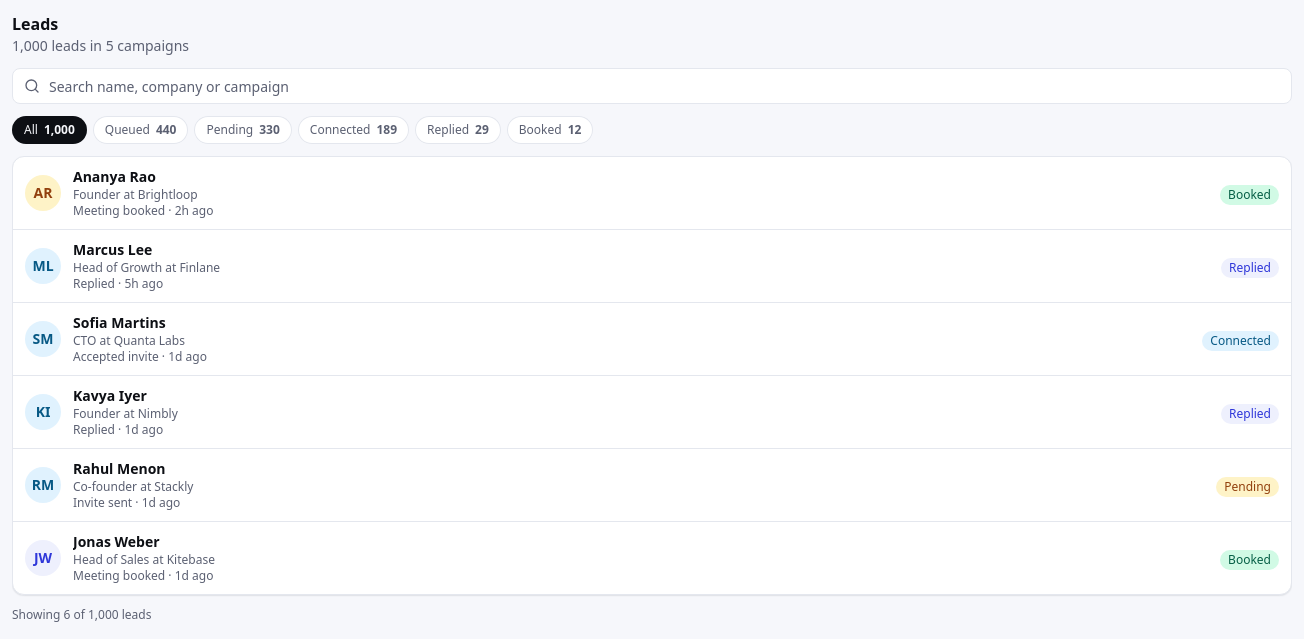
Test: LeadsPanel › shows an empty state for a search with no match, and recovers
In the search field named "Search leads": (652, 86) [12,68,1292,104], type "zzz"
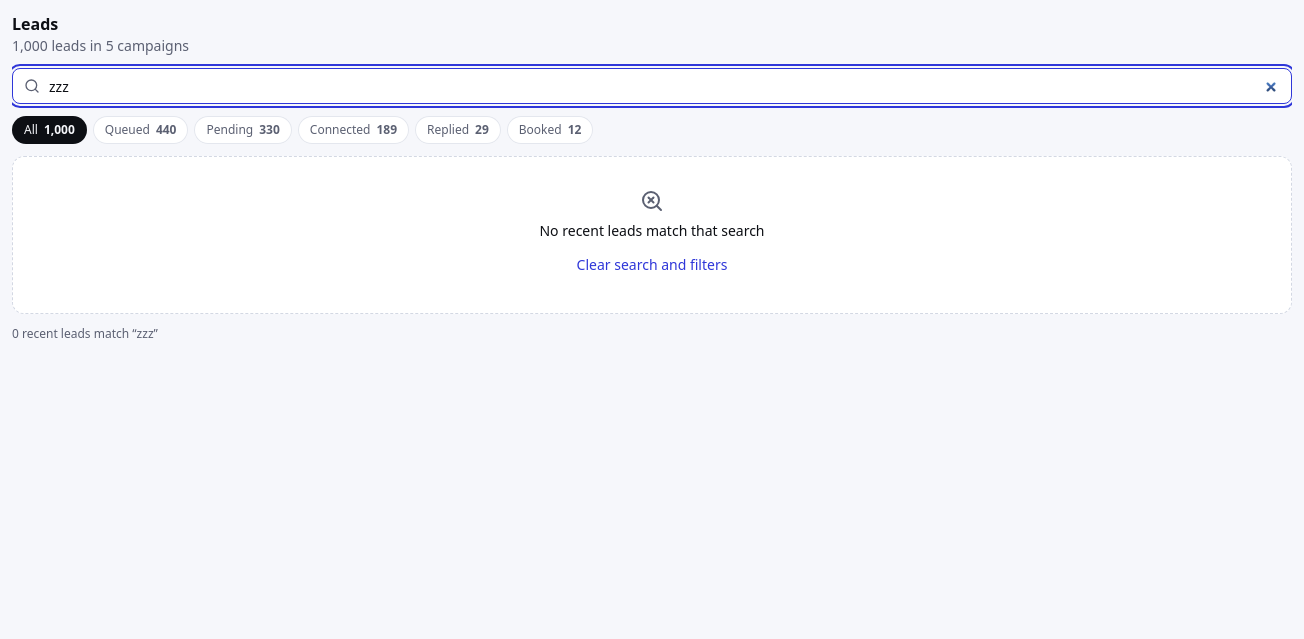
Expected: the text "No recent leads match that search" is shown, [540,221,764,241]
Click the button "Clear search and filters": (652, 265) [565,249,739,281]
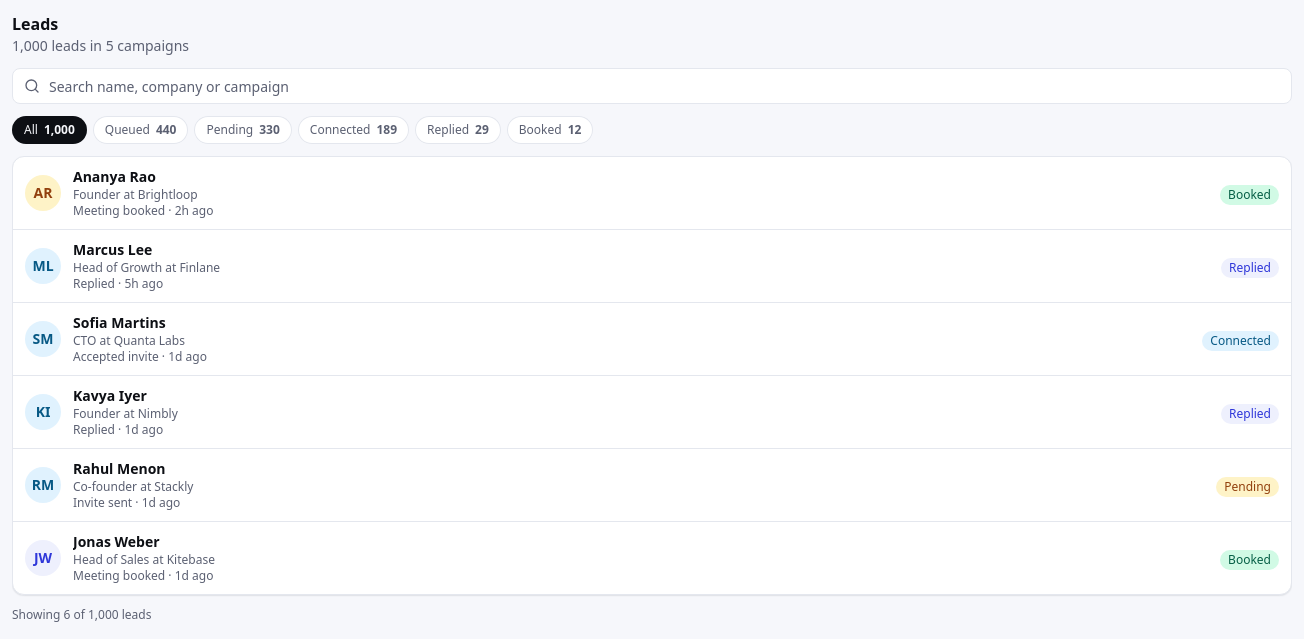
Expected: the number of list items is 6, [13,157,1291,230]; [13,230,1291,303]; [13,303,1291,376]; [13,376,1291,449]; [13,449,1291,522]; [13,522,1291,594]
